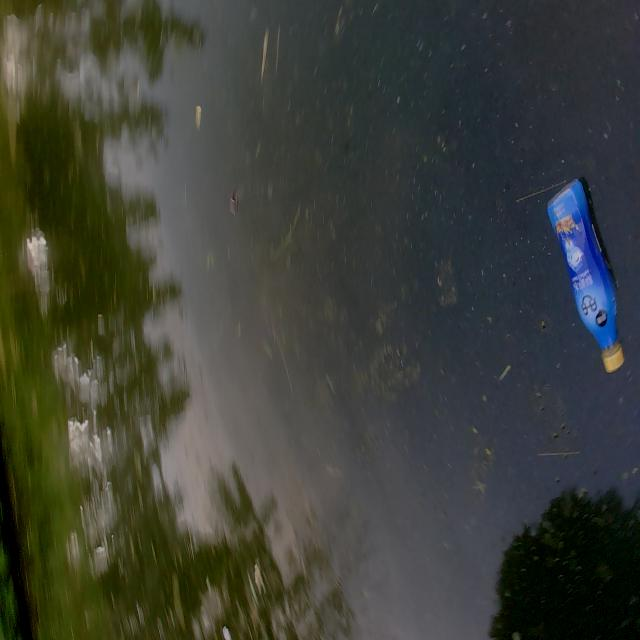bottle: (538, 166, 628, 392)
